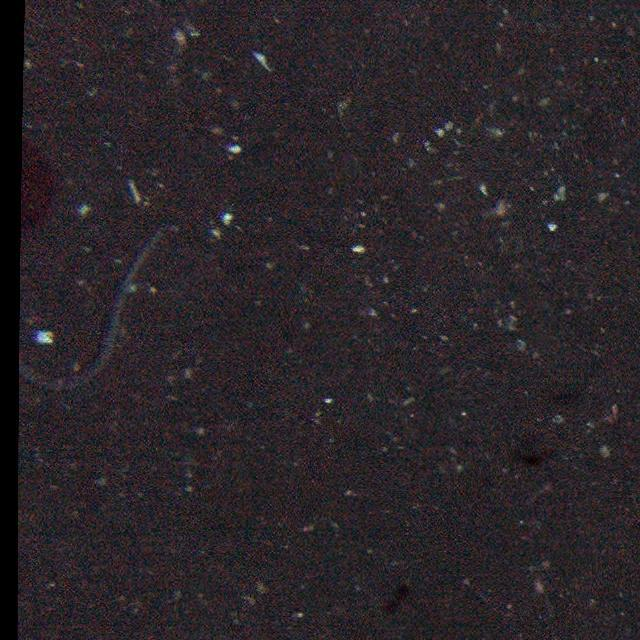eel: (22, 228, 175, 392)
